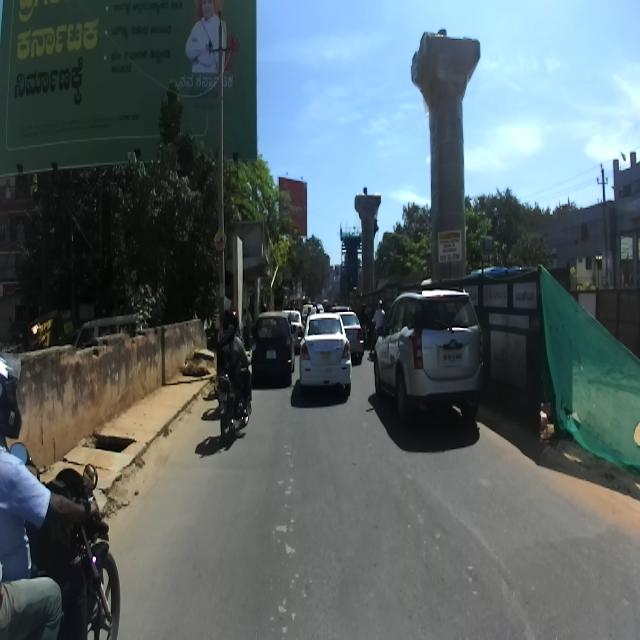car ahead at: (368, 289, 482, 409), (300, 314, 350, 396), (254, 308, 295, 387)
motorcycle ahead at: (53, 463, 134, 640), (215, 366, 258, 439)
